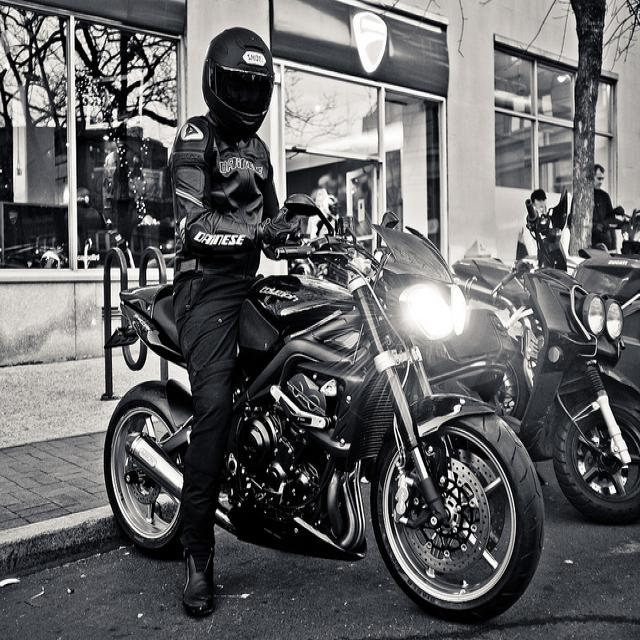motor: (102, 196, 545, 626), (430, 262, 640, 523)
